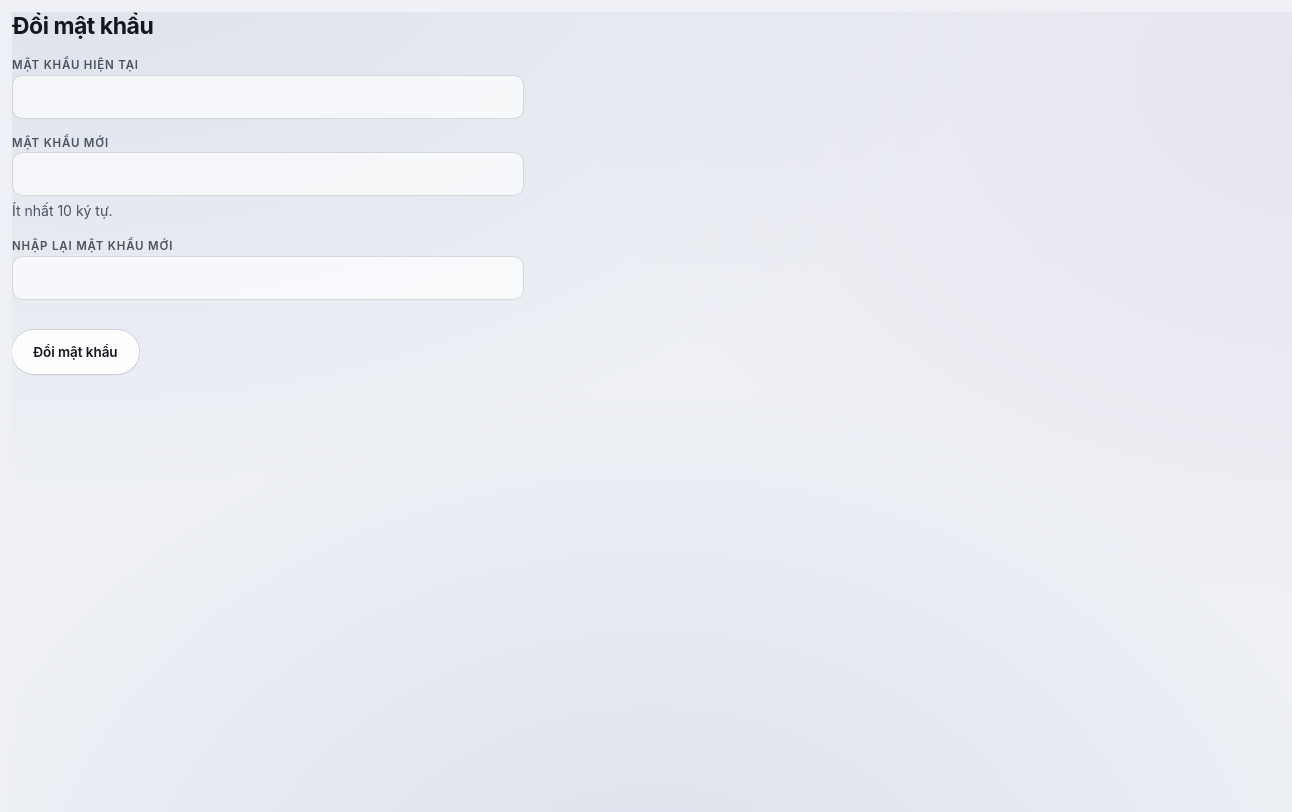
ChangePasswordPage › is pressable when incomplete, and answers with the reason rather than nothing
Expected: the password field labelled "Mật khẩu mới" is shown, [12,152,524,196]
Click the button "Đổi mật khẩu".
click(75, 352)  # box [12,330,138,374]
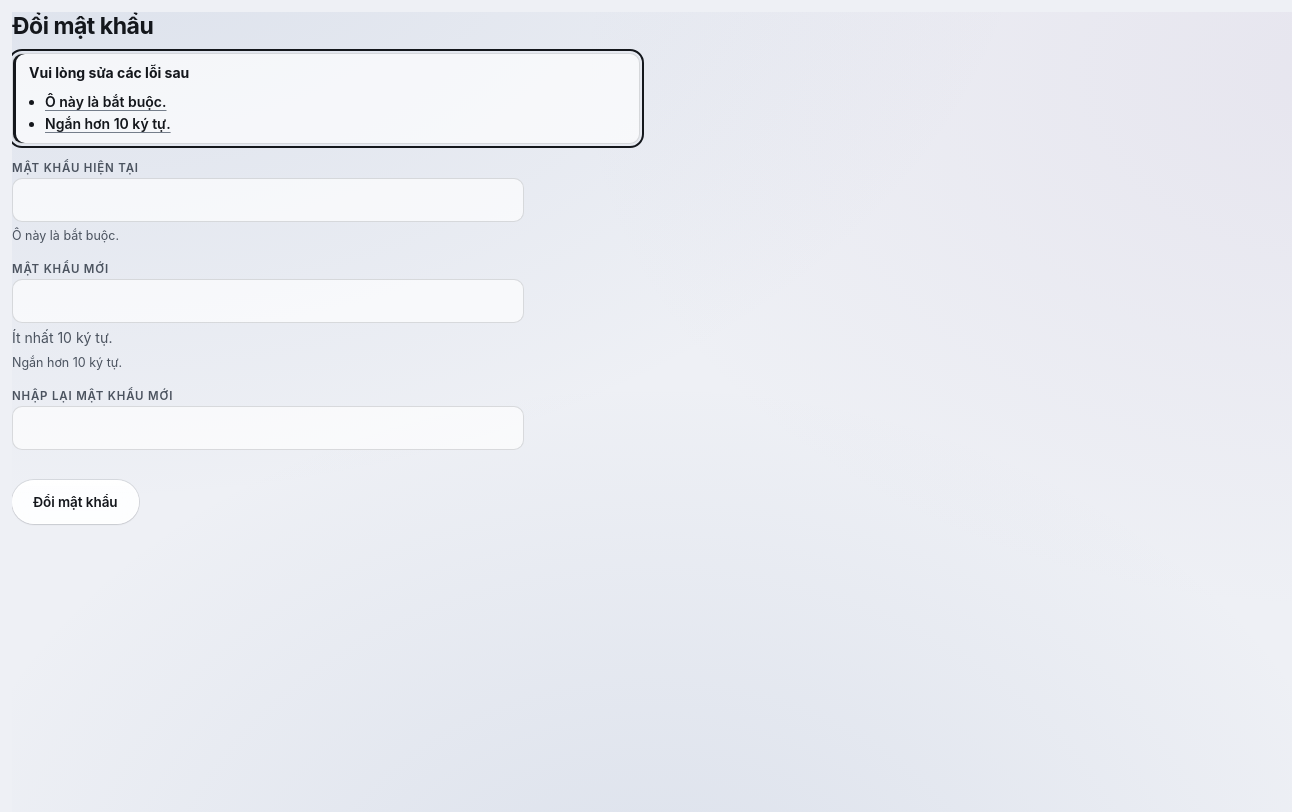
Result: the message shows "Vui lòng sửa các lỗi sau" at [29,64,189,81]
